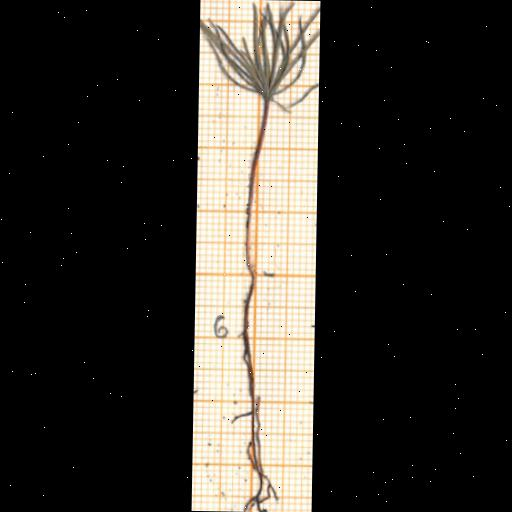flowerPinus: (201, 4, 320, 103)
rootPinus: (246, 397, 277, 511), (242, 275, 257, 408)
stemPinus: (245, 101, 270, 273)
